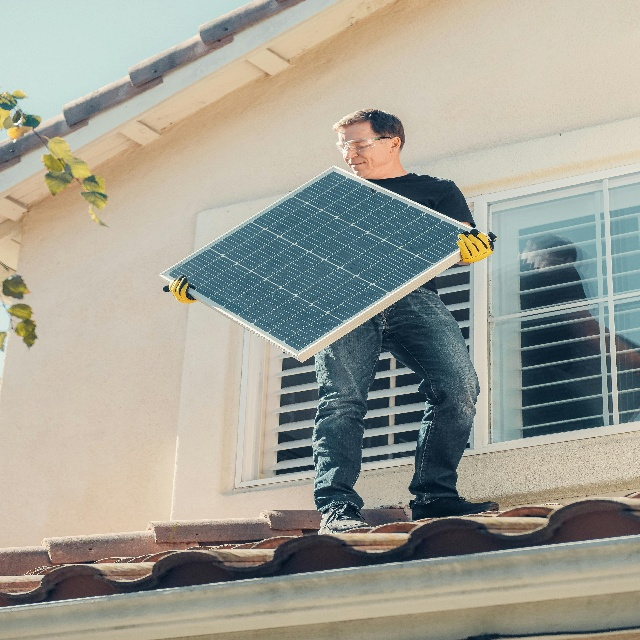Gafas: (335, 138, 384, 148)
Guantes: (457, 230, 498, 262), (162, 277, 194, 304)
